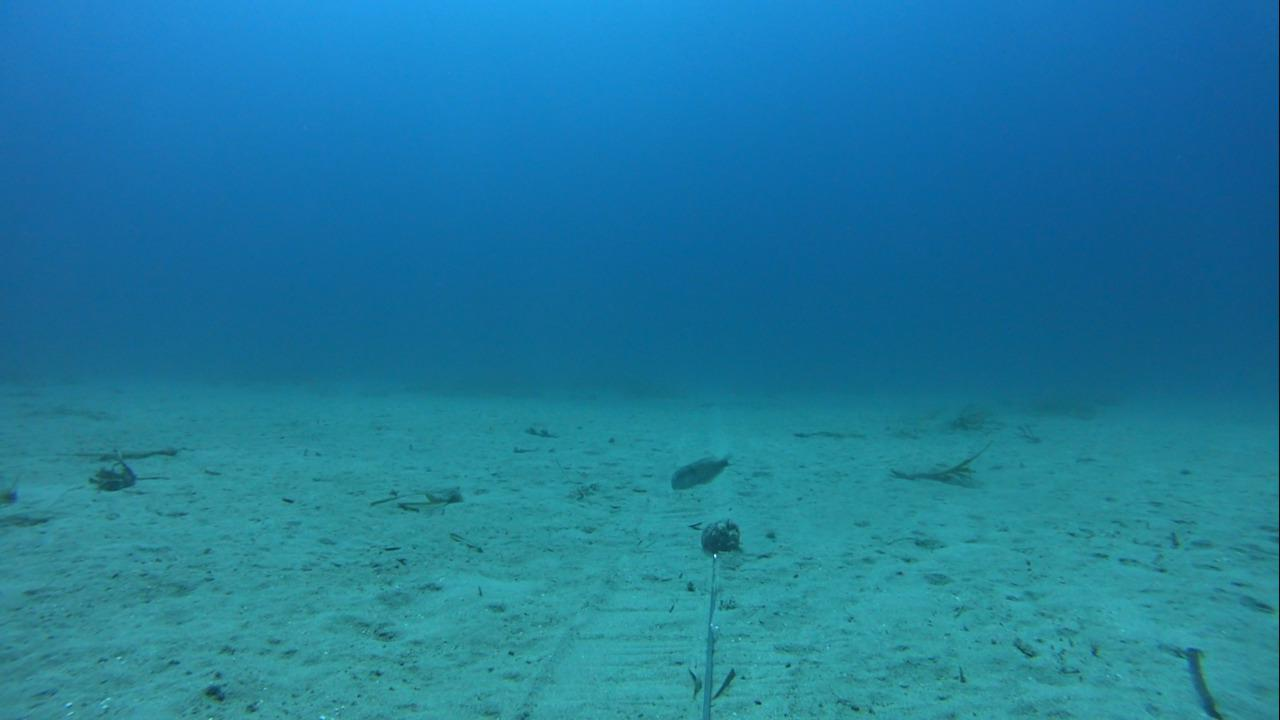raor: (664, 449, 733, 493)
